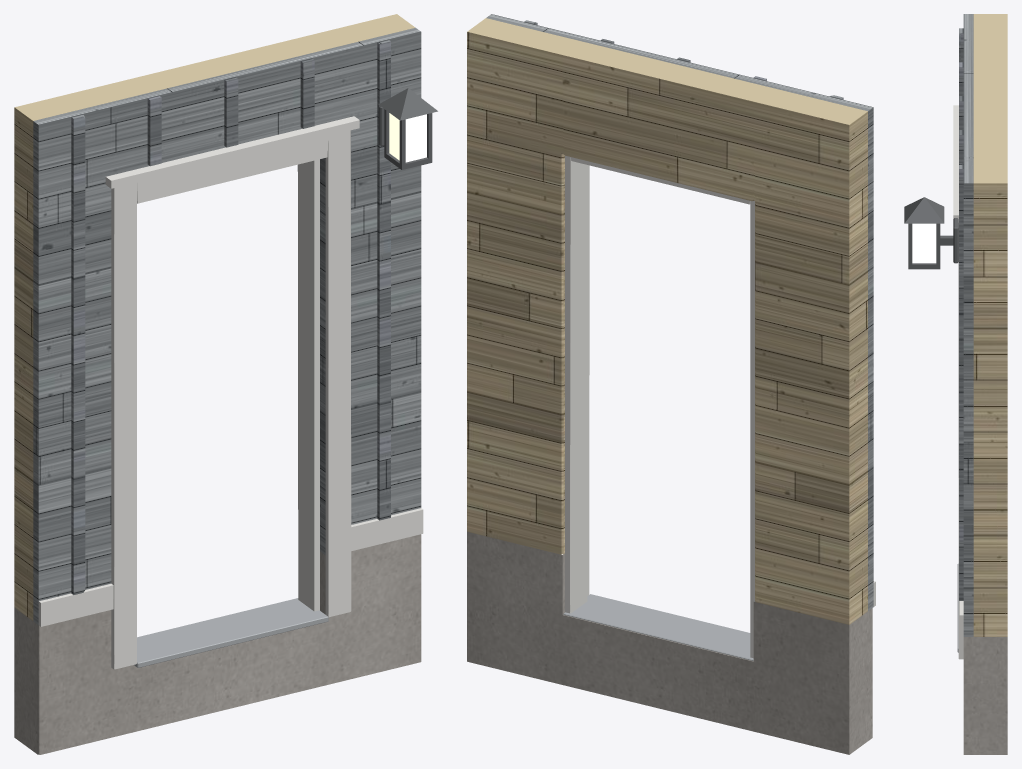
The model's file is o_door.glb.
3 renders of one model, left to right at view 1: azimuth 30°, elevation 25°; view 2: azimuth 150°, elevation 25°; view 3: azimuth 270°, elevation 25°, orthographic. The views are drawn at different scales.
Visible parts, largest first — view 1: o_door_siding, o_door_trim, o_door_concrete, o_door_plaster, o_door_batten, o_door_steel, o_door_iron, o_door_lamp_glass; view 2: o_door_plaster, o_door_concrete, o_door_trim, o_door_siding, o_door_steel; view 3: o_door_plaster, o_door_siding, o_door_concrete, o_door_batten, o_door_iron, o_door_trim, o_door_lamp_glass.
Boxes of the visible parts, x1,y1,x2,y2 form: o_door_siding: [33, 27, 421, 624]; o_door_trim: [38, 116, 423, 669]; o_door_concrete: [14, 534, 421, 754]; o_door_plaster: [14, 14, 415, 620]; o_door_batten: [71, 39, 390, 594]; o_door_steel: [134, 598, 328, 667]; o_door_iron: [378, 88, 437, 169]; o_door_lamp_glass: [389, 113, 426, 162]; o_door_plaster: [467, 18, 867, 624]; o_door_concrete: [467, 531, 872, 754]; o_door_trim: [565, 155, 875, 658]; o_door_siding: [486, 14, 873, 610]; o_door_steel: [563, 594, 753, 660]; o_door_plaster: [973, 14, 1007, 636]; o_door_siding: [963, 14, 973, 636]; o_door_concrete: [963, 637, 1007, 754]; o_door_batten: [959, 28, 963, 600]; o_door_iron: [904, 197, 958, 269]; o_door_trim: [953, 105, 963, 659]; o_door_lamp_glass: [912, 223, 936, 263].
Size of the model in its own units: 2 by 3.15 by 0.515.
8 materials, 4 textured.
